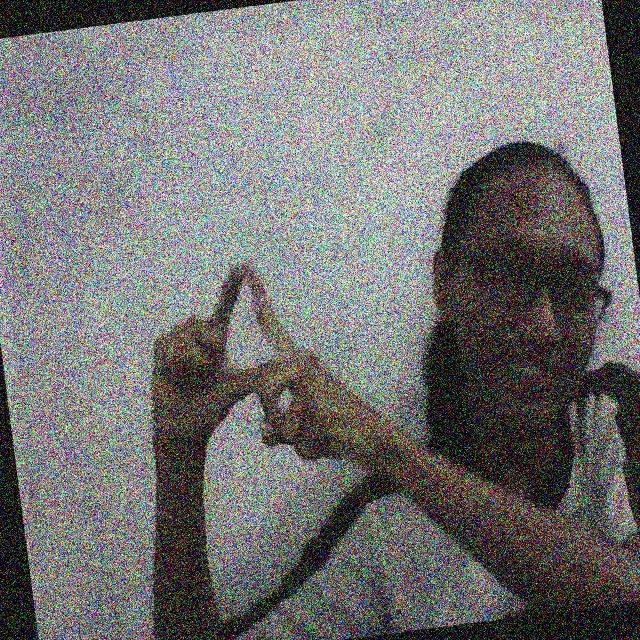A: (156, 252, 316, 426)
